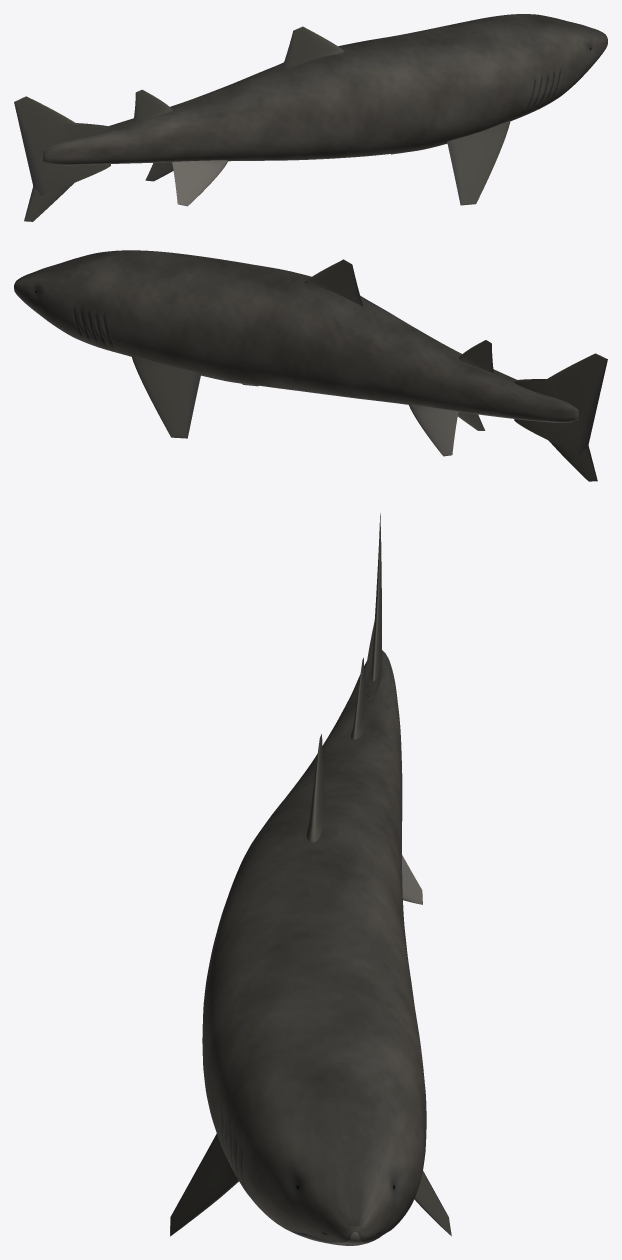
The model's file is greenland_shark.glb.
The picture shows the model from 3 angles, top to bottom: view 1: azimuth 30°, elevation 25°; view 2: azimuth 150°, elevation 25°; view 3: azimuth 270°, elevation 25°; orthographic projection. The views are drawn at different scales.
Visible parts, largest first — view 1: GreenlandShark_Body, GreenlandShark_Fins; view 2: GreenlandShark_Body, GreenlandShark_Fins; view 3: GreenlandShark_Body, GreenlandShark_Fins.
Boxes of the visible parts, <box> form: GreenlandShark_Body: <box>43,14,607,165</box>; GreenlandShark_Fins: <box>14,26,510,221</box>; GreenlandShark_Body: <box>14,250,578,422</box>; GreenlandShark_Fins: <box>131,259,607,481</box>; GreenlandShark_Body: <box>202,650,426,1245</box>; GreenlandShark_Fins: <box>170,513,451,1236</box>.
Bounding box in the file's own units: 4 × 1.2 × 0.8324.
Materials: 3 (1 with a texture image).
